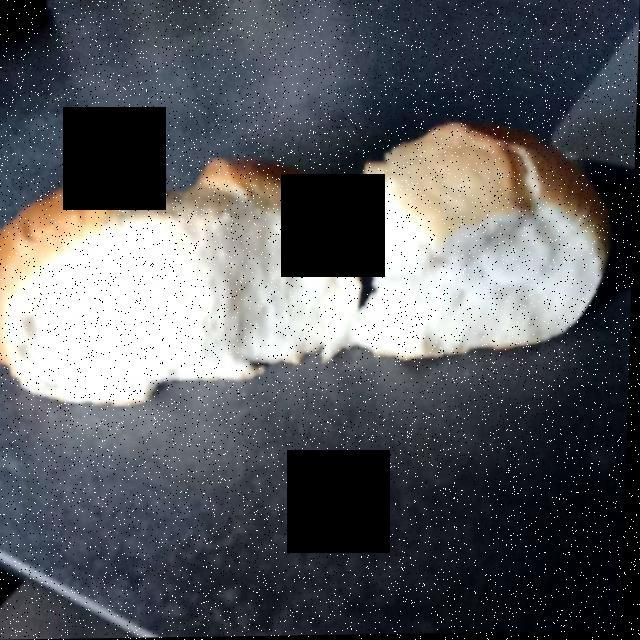bread: (10, 129, 600, 403)
